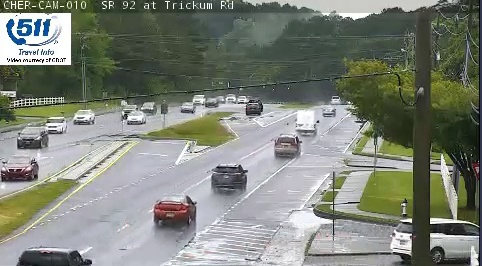car: (154, 195, 196, 222), (210, 164, 246, 189), (274, 134, 300, 156), (322, 106, 336, 117)
van: (295, 110, 315, 133)
